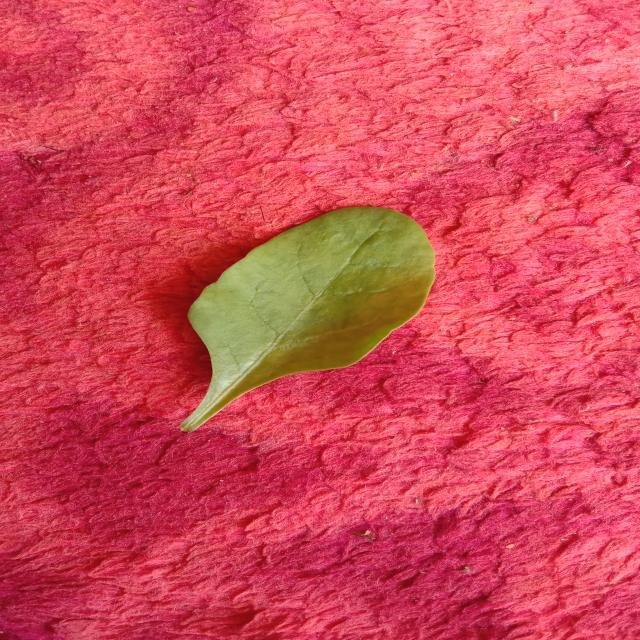leaf: (178, 203, 436, 433)
